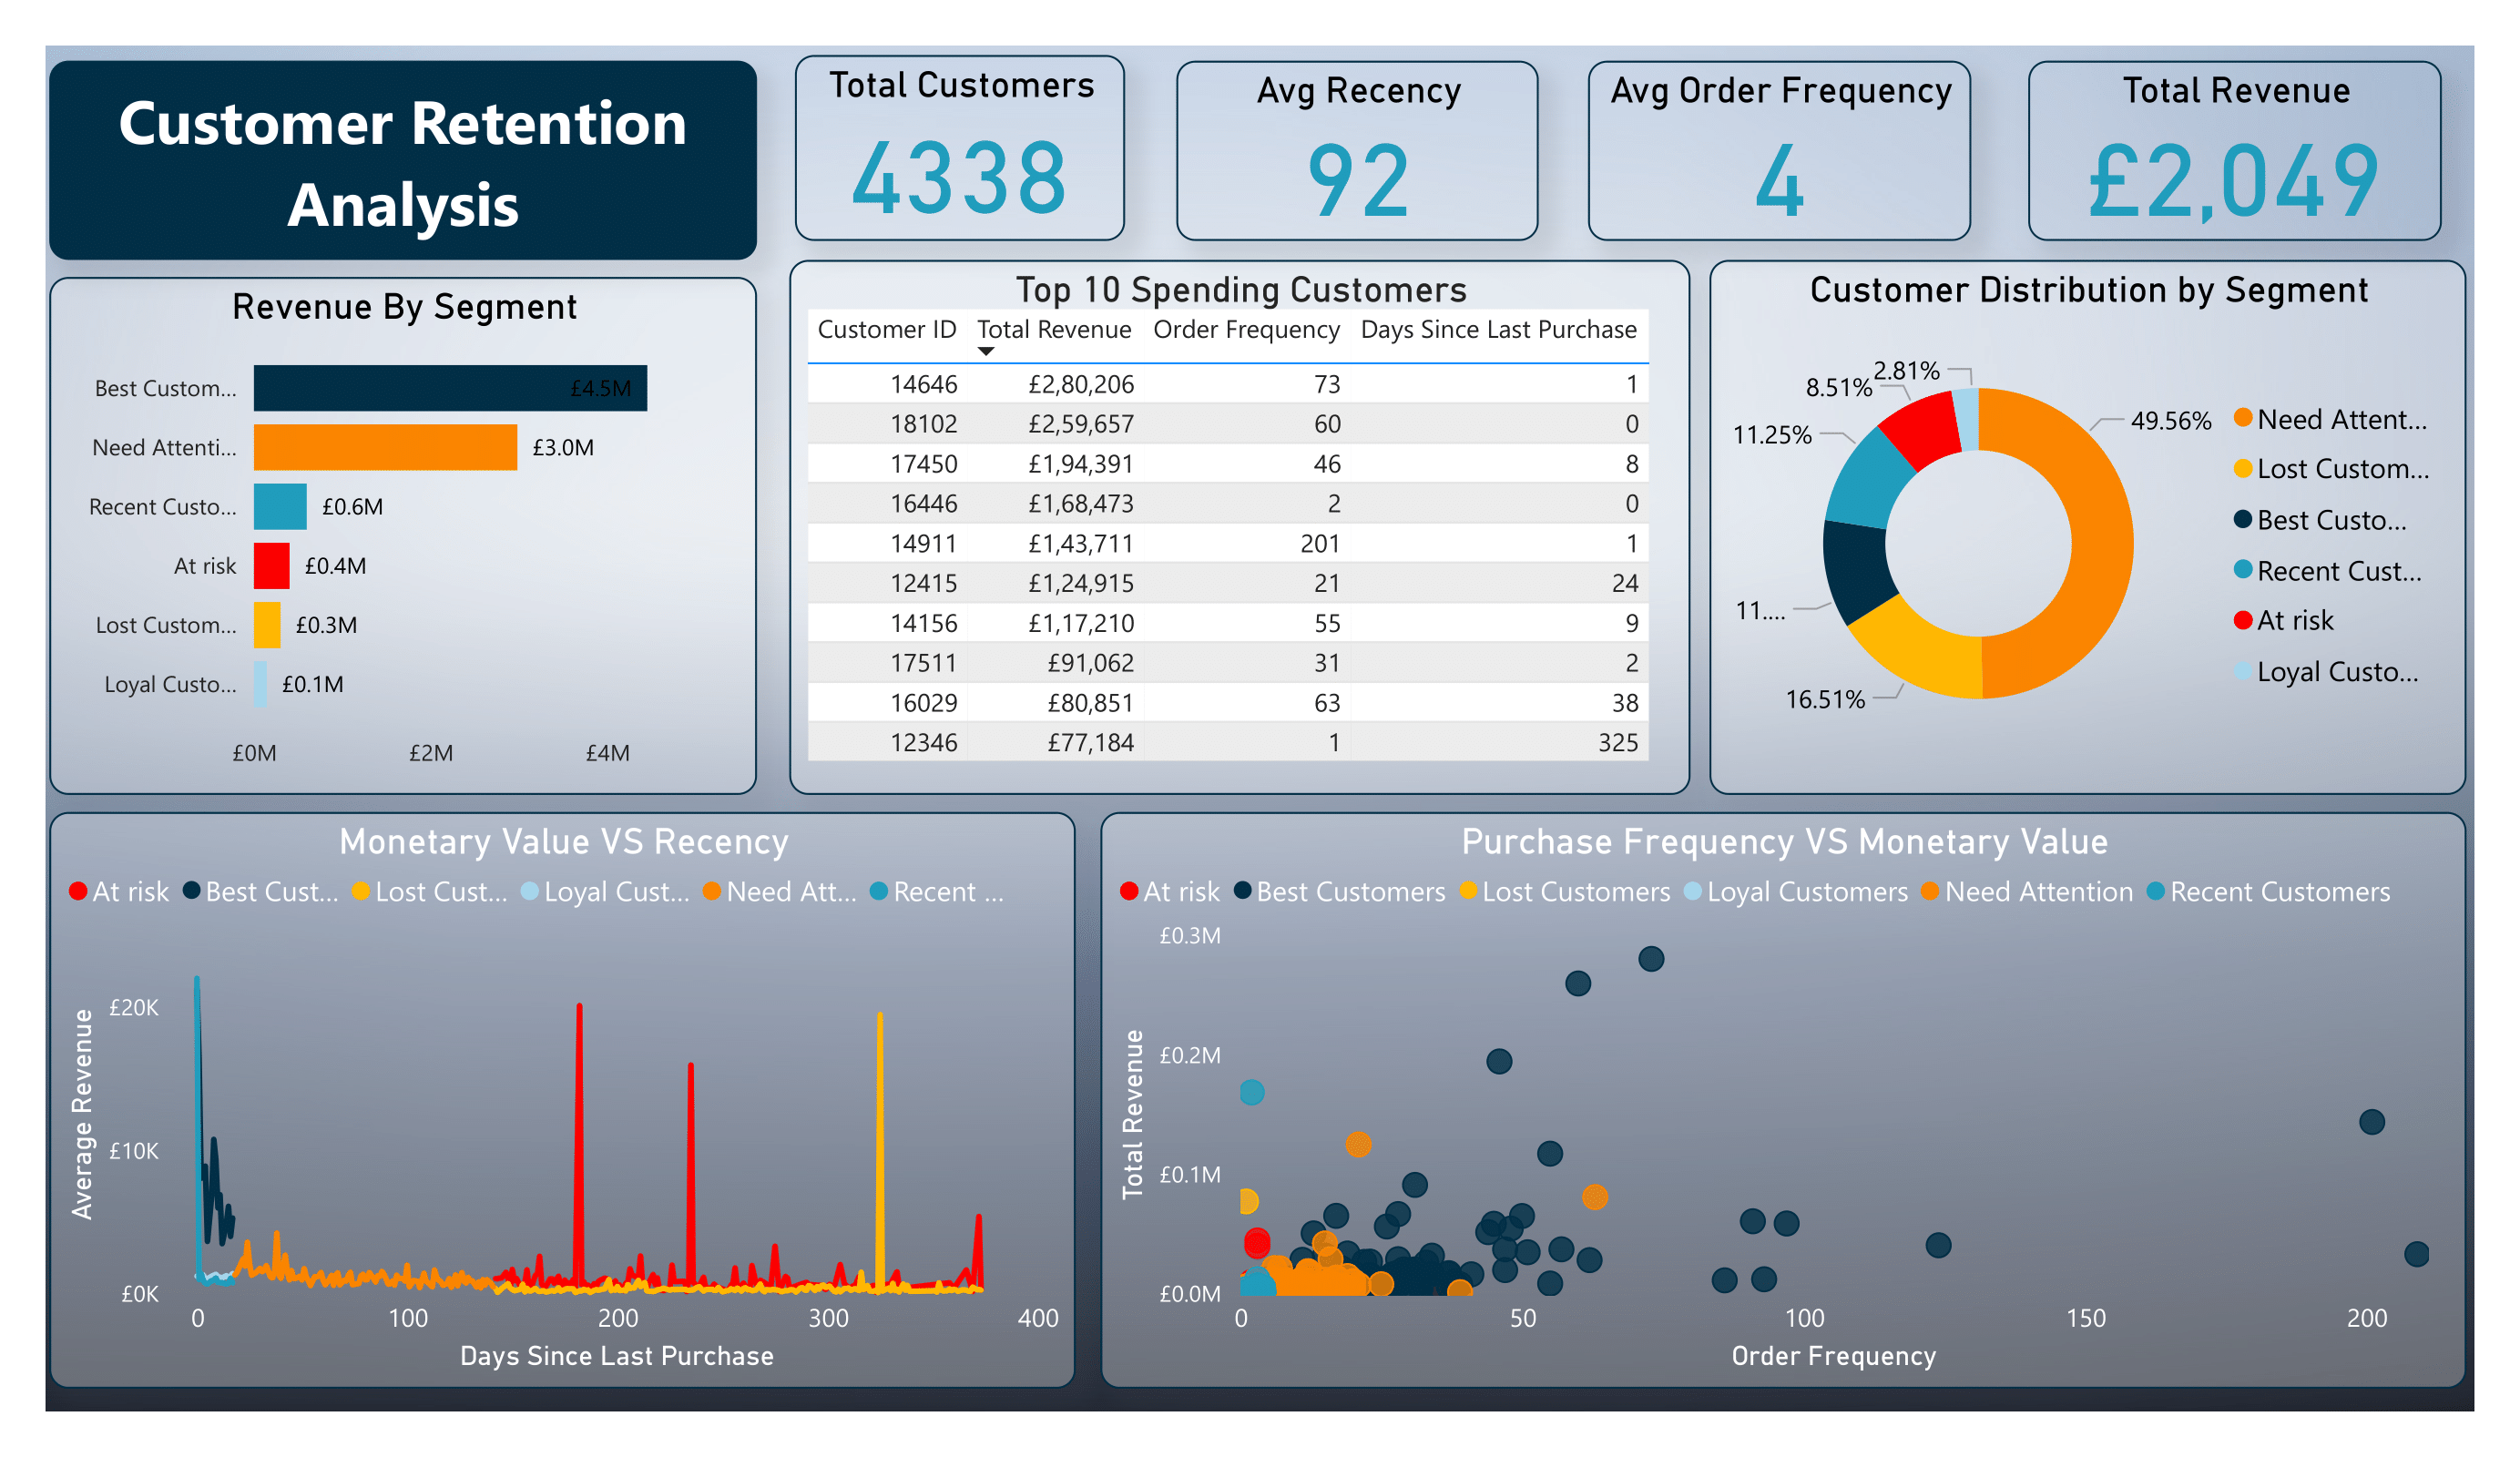

Layout of this report page (visuals, bound fields, positions):
{"tool":"powerbi","page":{"name":"Page 1","canvas":[1280,720],"ordinal":0},"visuals":[{"type":"clusteredBarChart","title":"Revenue By Segment","fields":{"Category":["RFM Analysis.Customer Segment "],"Y":["Sum(RFM Analysis.Total Revenue)"]},"box":[2.4,121.9,372.8,272.7],"z":0},{"type":"donutChart","title":"Customer Distribution by  Segment ","fields":{"Category":["RFM Analysis.Customer Segment "],"Y":["CountNonNull(RFM Analysis.Customer ID)"]},"box":[877.1,113.4,399.3,281.1],"z":1000},{"type":"tableEx","title":"Top 10 Spending Customers","fields":{"Values":["RFM Analysis.Customer ID","RFM Analysis.Total Revenue","RFM Analysis.Order Frequency","RFM Analysis.Days Since Last Purchase"]},"box":[392.1,113.4,475.3,281.1],"z":2000},{"type":"lineChart","title":"Monetary Value VS Recency","fields":{"Category":["RFM Analysis.Days Since Last Purchase"],"Y":["Avg(RFM Analysis.Total Revenue)"],"Series":["RFM Analysis.Customer Segment "]},"box":[2.4,404.2,540.5,304],"z":3000},{"type":"scatterChart","title":"Purchase Frequency VS Monetary Value","fields":{"X":["RFM Analysis.Order Frequency"],"Y":["RFM Analysis.Total Revenue"],"Series":["RFM Analysis.Customer Segment "]},"box":[556.2,404.2,720.2,304],"z":4000},{"type":"card","title":"Total Customers","fields":{"Values":["CountNonNull(RFM Analysis.Customer ID)"]},"box":[394.5,4.8,174.9,97.7],"z":5000},{"type":"card","title":"Total Revenue","fields":{"Values":["Avg(RFM Analysis.Total Revenue)"]},"box":[1044.8,8.4,218.4,94.1],"z":6000},{"type":"card","title":"Avg Order Frequency","fields":{"Values":["Avg(RFM Analysis.Order Frequency)"]},"box":[813.1,8.4,201.5,94.1],"z":7000},{"type":"card","title":"Avg Recency","fields":{"Values":["Avg(RFM Analysis.Days Since Last Purchase)"]},"box":[596,8.4,190.6,94.1],"z":8000},{"type":"textbox","box":[2.4,8.4,372.8,105],"z":9000}]}

Visuals, with their boxes on the page's 1280x720 design canvas (x1, y1, x2, y2). These are canvas units, not pixel positions in the 2520x1457 screenshot, which may show the page scaled, cropped or inside an application window:
"Revenue By Segment" clusteredBarChart: bbox(2, 122, 375, 395)
"Customer Distribution by  Segment " donutChart: bbox(877, 113, 1276, 394)
"Top 10 Spending Customers" tableEx: bbox(392, 113, 867, 394)
"Monetary Value VS Recency" lineChart: bbox(2, 404, 543, 708)
"Purchase Frequency VS Monetary Value" scatterChart: bbox(556, 404, 1276, 708)
"Total Customers" card: bbox(394, 5, 569, 102)
"Total Revenue" card: bbox(1045, 8, 1263, 102)
"Avg Order Frequency" card: bbox(813, 8, 1015, 102)
"Avg Recency" card: bbox(596, 8, 787, 102)
textbox: bbox(2, 8, 375, 113)
